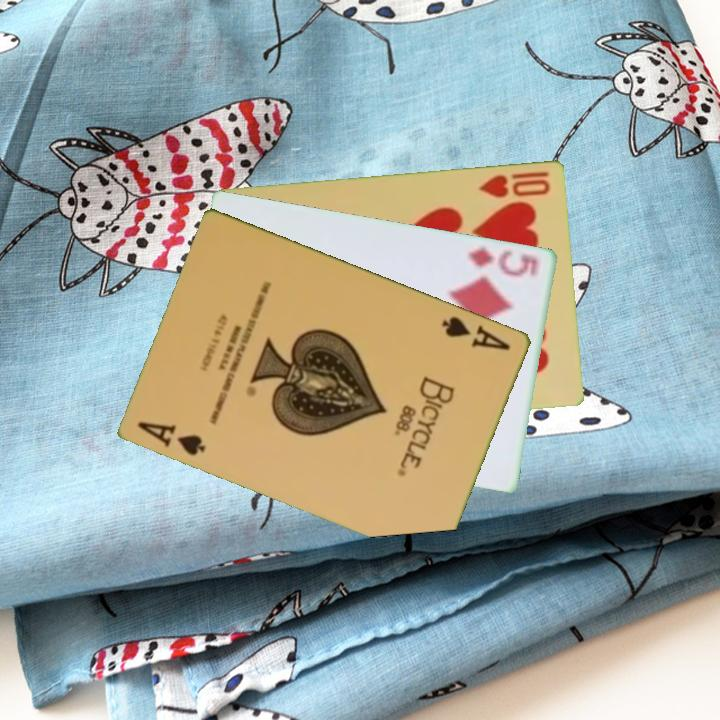10h: (475, 167, 553, 200)
5d: (465, 243, 541, 279)
As: (438, 312, 514, 353), (135, 417, 209, 458)
